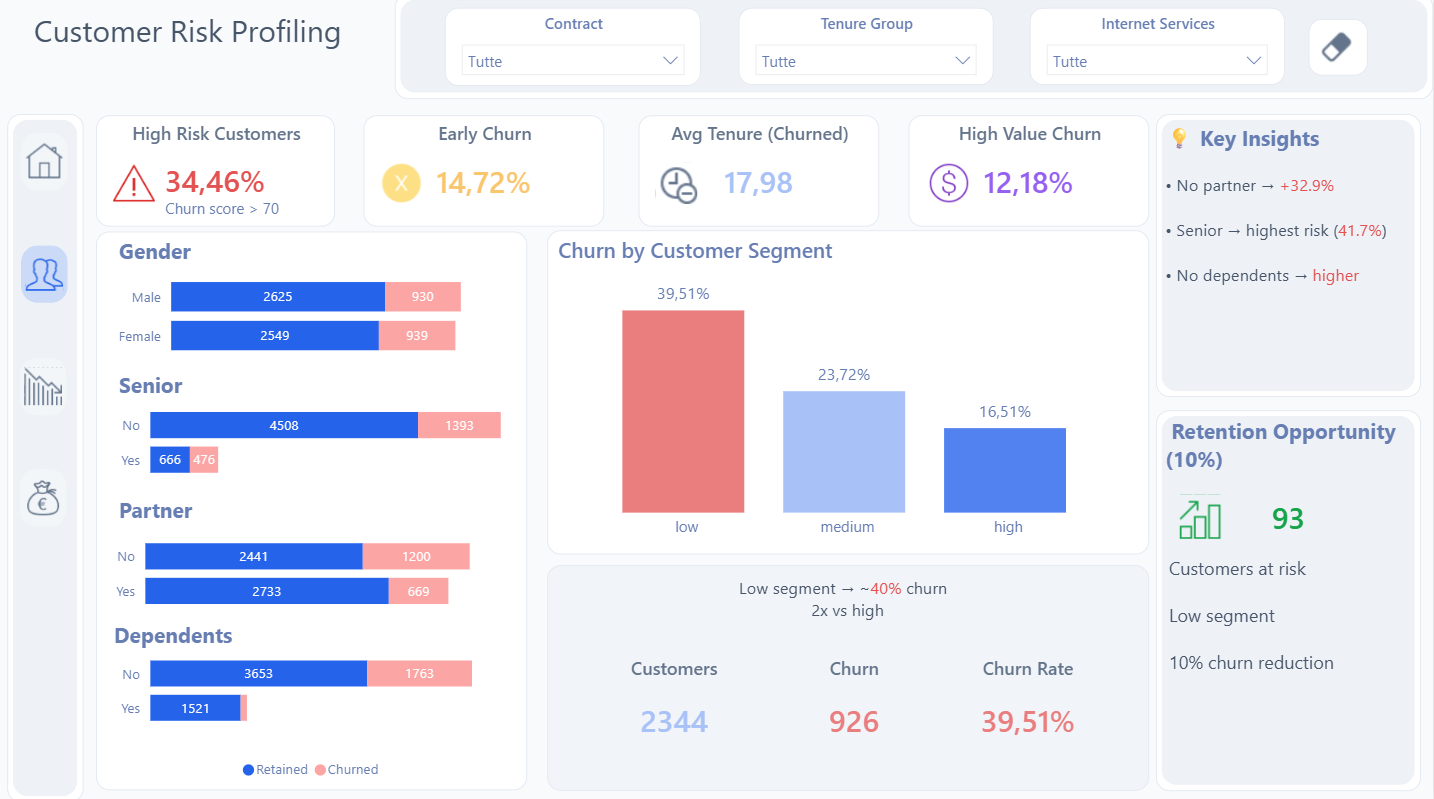

What the dashboard file says about the page in this screenshot:
{"tool":"powerbi","page":{"name":"Customer Risk Profiling","canvas":[1280,720],"ordinal":1},"visuals":[{"type":"shape","box":[1033.4,107.1,236,252.3],"z":0},{"type":"shape","box":[89.5,211.6,383.8,497.7],"z":1000},{"type":"shape","box":[354.6,0,925.2,93.3],"z":2000},{"type":"textbox","box":[29.4,8.6,309.2,57.7],"z":3000},{"type":"slicer","title":"Contract","fields":{"Values":["customer_churn.contract"]},"box":[400,12.3,228.2,69.9],"z":4000},{"type":"slicer","title":"Tenure Group","fields":{"Values":["customer_churn.tenure_group"]},"box":[660.7,12.3,227,68.7],"z":5000},{"type":"slicer","title":"Internet Services","fields":{"Values":["customer_churn.internet_service"]},"box":[920.3,12.3,227,68.7],"z":6000},{"type":"actionButton","box":[1169.3,22.1,52.8,50.3],"z":7000},{"type":"card","title":"Early Churn","fields":{"Values":["Misure.Early Churn %"]},"box":[327.6,108,214.7,99.4],"z":9000},{"type":"card","title":"High Risk Customers","fields":{"Values":["Misure.High_risk %"]},"box":[89.5,108.5,212.9,99],"z":10000},{"type":"card","title":"Avg Tenure (Churned)","fields":{"Values":["Misure.avg_tenure_churn"]},"box":[571.8,108,214.7,99.4],"z":11000},{"type":"card","title":"High Value Churn","fields":{"Values":["Misure.High Value Churn %"]},"box":[812.3,108,214.7,99.4],"z":12000},{"type":"actionButton","box":[100.6,142.3,45.4,51.5],"z":13000},{"type":"textbox","box":[146,174.2,155.8,38],"z":14000},{"type":"actionButton","box":[338.7,142.3,45.4,51.5],"z":15000},{"type":"actionButton","box":[582.8,142.3,45.4,51.5],"z":16000},{"type":"actionButton","box":[825.8,142.3,45.4,51.5],"z":17000},{"type":"columnChart","title":"Churn by Customer Segment","fields":{"Category":["customer_churn.customer_segment"],"Y":["Misure.churn rate %"]},"box":[491,210.2,535.7,288.9],"z":18000},{"type":"barChart","fields":{"Category":["demographics.gender"],"Y":["Misure.total_customer"],"Series":["customer_churn.churn_label"]},"box":[100.4,212.9,351.3,142.4],"z":19000},{"type":"textbox","box":[104.4,211.6,158.7,48.8],"z":20000},{"type":"barChart","fields":{"Y":["Misure.total_customer"],"Series":["customer_churn.churn_label"],"Category":["customer_churn.senior_citizen"]},"box":[104.4,332.3,355.3,128.8],"z":21000},{"type":"textbox","box":[104.4,330.9,158.7,48.8],"z":22000},{"type":"barChart","fields":{"Y":["Misure.total_customer"],"Series":["customer_churn.churn_label"],"Category":["customer_churn.partner"]},"box":[100.4,448.9,355.3,128.8],"z":23000},{"type":"textbox","box":[104.4,442.1,158.7,38],"z":24000},{"type":"barChart","fields":{"Y":["Misure.total_customer"],"Series":["customer_churn.churn_label"],"Category":["customer_churn.dependents"]},"box":[104.4,553.3,355.3,156],"z":25000},{"type":"textbox","box":[100.4,553.3,158.7,48.8],"z":26000},{"type":"textbox","box":[491,508.6,535.7,200.7],"z":27000},{"type":"textbox","box":[1036.2,109.9,222.4,249.5],"z":28000},{"type":"shape","box":[9.5,107.1,67.8,613],"z":29000},{"type":"shape","box":[1033.4,370.2,236,339.1],"z":30000},{"type":"textbox","box":[1036.2,371.6,222.4,70.5],"z":31000},{"type":"card","title":"Customers","fields":{"Values":["Misure.customer_low"]},"box":[497.7,588.6,212.9,99],"z":32000},{"type":"card","title":"Churn","fields":{"Values":["Misure.churn_low"]},"box":[657.8,588.6,212.9,99],"z":33000},{"type":"card","title":"Churn Rate","fields":{"Values":["Misure.churn rate %"]},"box":[812.4,588.6,212.9,99],"z":34000},{"type":"actionButton","box":[22.1,123.9,41.7,51.5],"z":35000},{"type":"actionButton","box":[22.1,223.7,41.7,51.5],"z":36000},{"type":"actionButton","box":[20.9,423.3,41.7,51.5],"z":37000},{"type":"actionButton","box":[20.9,323.5,41.7,51.5],"z":38000},{"type":"card","title":"Avg Tenure (Churned)","fields":{"Values":["Misure.Retention Opportunity"]},"box":[1104,417.7,93.6,99],"z":39000},{"type":"textbox","box":[1040.2,495,222.4,123.4],"z":40000},{"type":"actionButton","box":[1048.4,442.1,52.9,47.5],"z":41000}]}

Visuals, with their boxes on the page's 1280x720 design canvas (x1, y1, x2, y2). These are canvas units, not pixel positions in the 1434x799 screenshot, which may show the page scaled, cropped or inside an application window:
shape: bbox(1033, 107, 1269, 359)
shape: bbox(90, 212, 473, 709)
shape: bbox(355, 0, 1280, 93)
textbox: bbox(29, 9, 339, 66)
"Contract" slicer: bbox(400, 12, 628, 82)
"Tenure Group" slicer: bbox(661, 12, 888, 81)
"Internet Services" slicer: bbox(920, 12, 1147, 81)
actionButton: bbox(1169, 22, 1222, 72)
"Early Churn" card: bbox(328, 108, 542, 207)
"High Risk Customers" card: bbox(90, 108, 302, 208)
"Avg Tenure (Churned)" card: bbox(572, 108, 786, 207)
"High Value Churn" card: bbox(812, 108, 1027, 207)
actionButton: bbox(101, 142, 146, 194)
textbox: bbox(146, 174, 302, 212)
actionButton: bbox(339, 142, 384, 194)
actionButton: bbox(583, 142, 628, 194)
actionButton: bbox(826, 142, 871, 194)
"Churn by Customer Segment" columnChart: bbox(491, 210, 1027, 499)
barChart - demographics.gender x Misure.total_customer: bbox(100, 213, 452, 355)
textbox: bbox(104, 212, 263, 260)
barChart - Misure.total_customer x customer_churn.churn_label: bbox(104, 332, 460, 461)
textbox: bbox(104, 331, 263, 380)
barChart - Misure.total_customer x customer_churn.churn_label: bbox(100, 449, 456, 578)
textbox: bbox(104, 442, 263, 480)
barChart - Misure.total_customer x customer_churn.churn_label: bbox(104, 553, 460, 709)
textbox: bbox(100, 553, 259, 602)
textbox: bbox(491, 509, 1027, 709)
textbox: bbox(1036, 110, 1259, 359)
shape: bbox(10, 107, 77, 720)
shape: bbox(1033, 370, 1269, 709)
textbox: bbox(1036, 372, 1259, 442)
"Customers" card: bbox(498, 589, 711, 688)
"Churn" card: bbox(658, 589, 871, 688)
"Churn Rate" card: bbox(812, 589, 1025, 688)
actionButton: bbox(22, 124, 64, 175)
actionButton: bbox(22, 224, 64, 275)
actionButton: bbox(21, 423, 63, 475)
actionButton: bbox(21, 324, 63, 375)
"Avg Tenure (Churned)" card: bbox(1104, 418, 1198, 517)
textbox: bbox(1040, 495, 1263, 618)
actionButton: bbox(1048, 442, 1101, 490)
